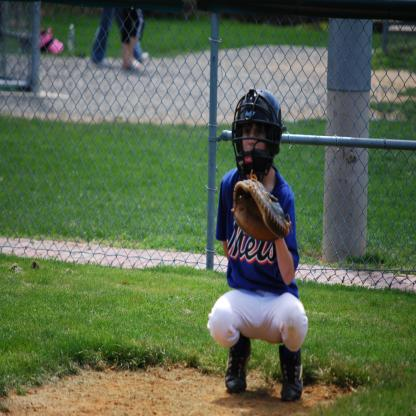Helmet: (230, 91, 286, 173)
